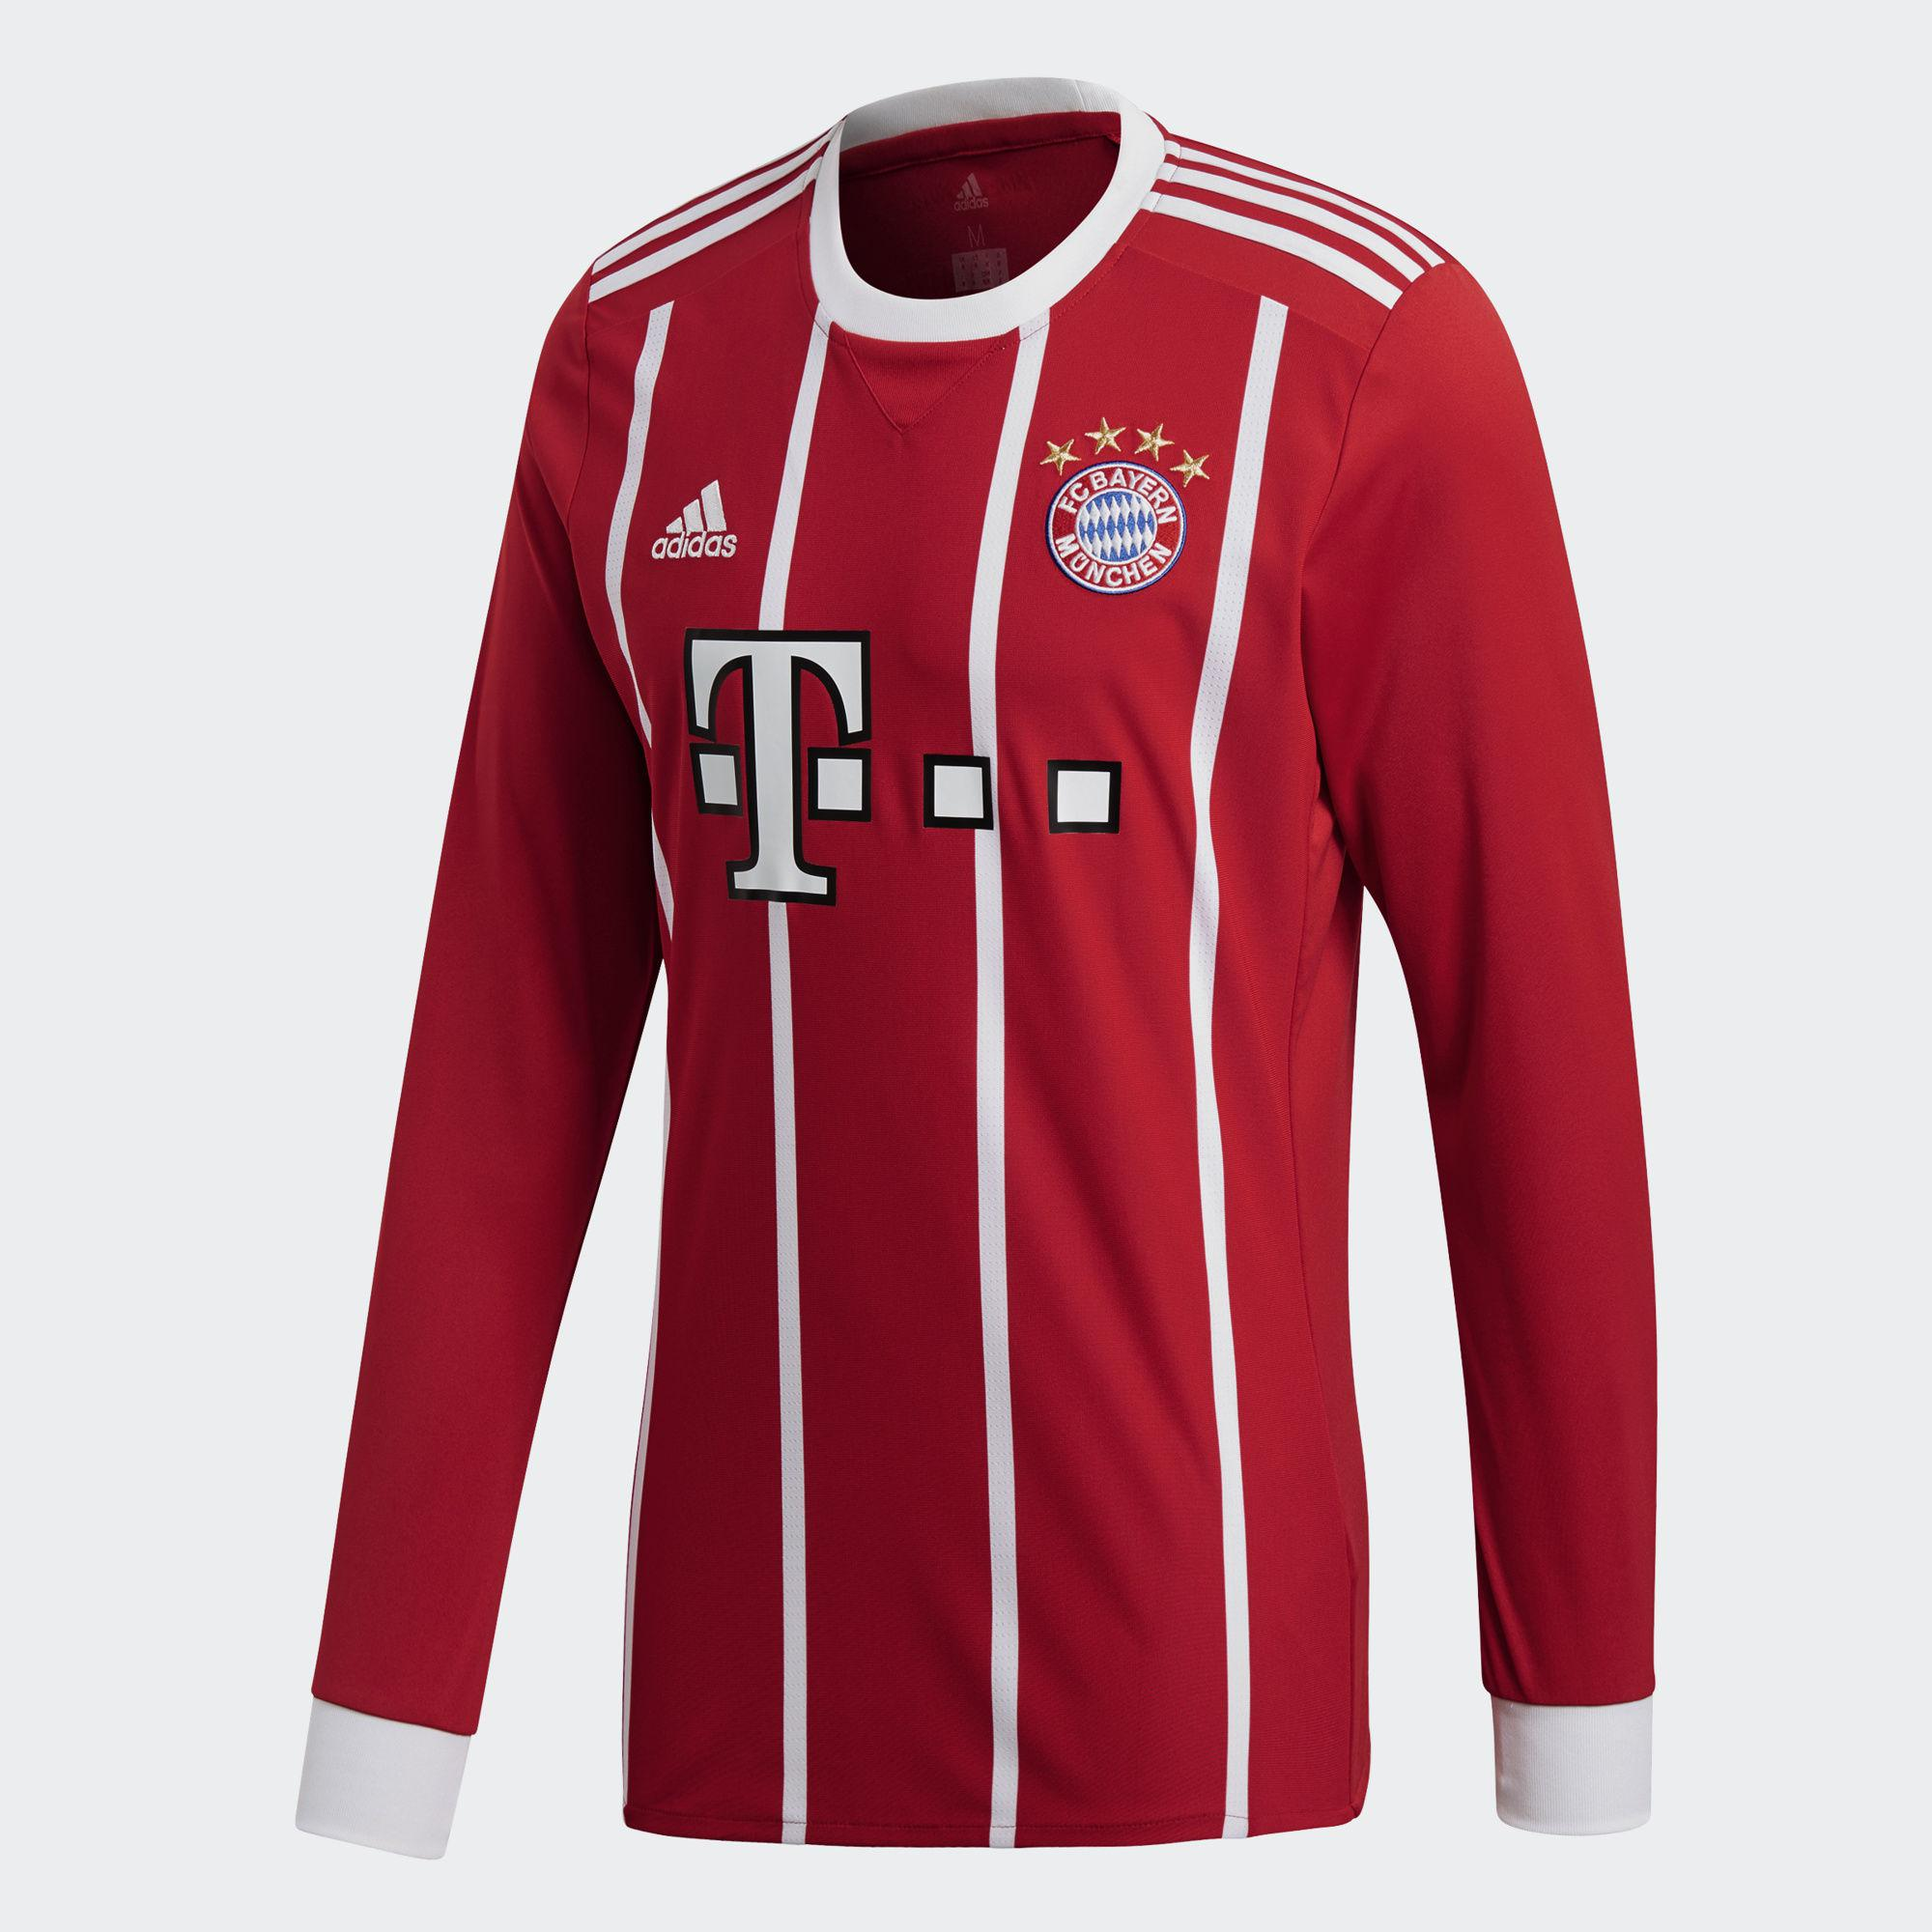teeshirt: (265, 60, 1755, 1877)
